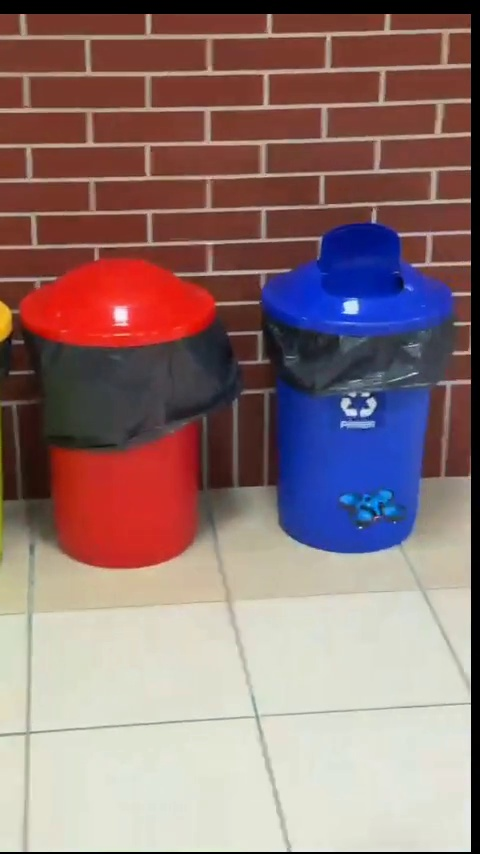drone: (341, 488, 404, 529)
